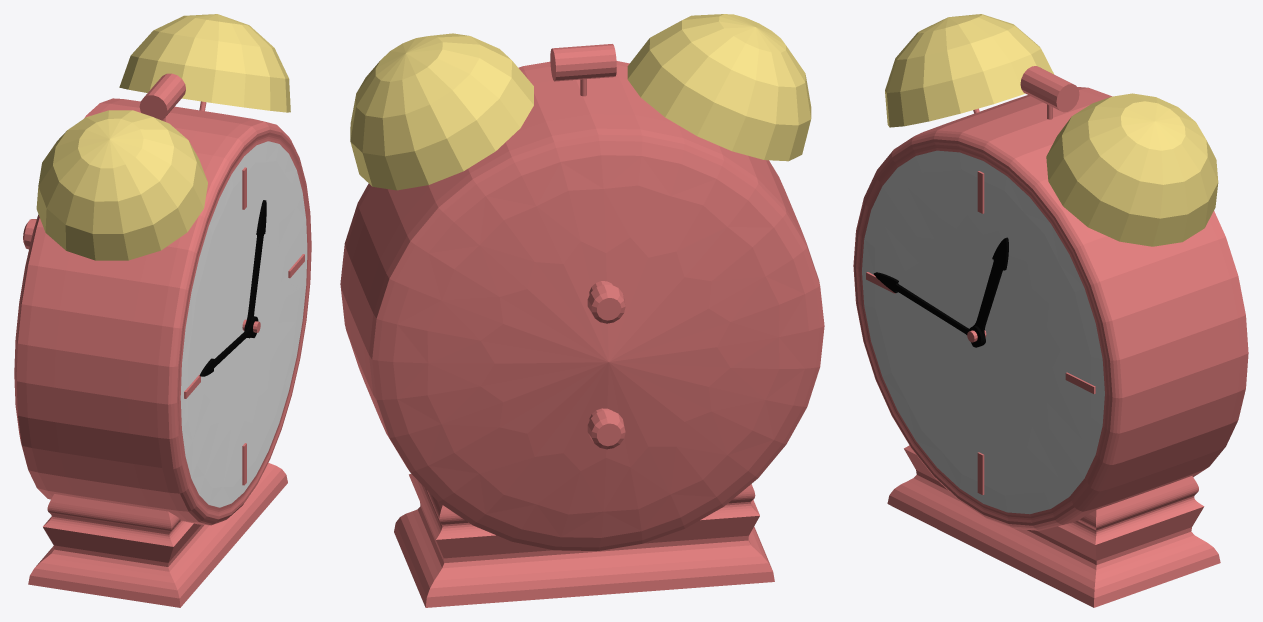
File: 2269a348-331a-4ba6-aeb7-fd21337b163d.glb
3 views of the same model, side by side, from view 1: azimuth 30°, elevation 25°; view 2: azimuth 150°, elevation 25°; view 3: azimuth 270°, elevation 25° (orthographic). The views are drawn at different scales.
Parts seen in each view (by area): view 1: Cylinder05, Sphere02, Rectangle03, Sphere03, Cylinder06, Circle05, Circle06; view 2: Cylinder05, Rectangle03, Sphere03, Sphere02, Cylinder06, Cylinder06_1, Cylinder07; view 3: Cylinder05, Rectangle03, Sphere03, Sphere02, Cylinder06, Circle05, Circle06.
Part boxes in pixels (<box>): Cylinder05: <box>14,98,311,525</box>; Sphere02: <box>36,110,207,260</box>; Rectangle03: <box>28,463,287,607</box>; Sphere03: <box>119,14,290,112</box>; Cylinder06: <box>139,73,185,120</box>; Circle05: <box>244,200,266,338</box>; Circle06: <box>199,316,258,376</box>; Cylinder05: <box>340,61,824,550</box>; Rectangle03: <box>394,473,774,607</box>; Sphere03: <box>350,33,533,190</box>; Sphere02: <box>627,14,811,161</box>; Cylinder06: <box>550,44,616,81</box>; Cylinder06_1: <box>587,281,625,323</box>; Cylinder07: <box>587,408,625,449</box>; Cylinder05: <box>853,87,1248,530</box>; Rectangle03: <box>887,445,1220,607</box>; Sphere03: <box>1046,93,1218,246</box>; Sphere02: <box>885,14,1054,127</box>; Cylinder06: <box>1020,66,1079,112</box>; Circle05: <box>970,237,1008,345</box>; Circle06: <box>873,272,983,347</box>.
Size of the model in its own units: 190 by 233 by 176.
